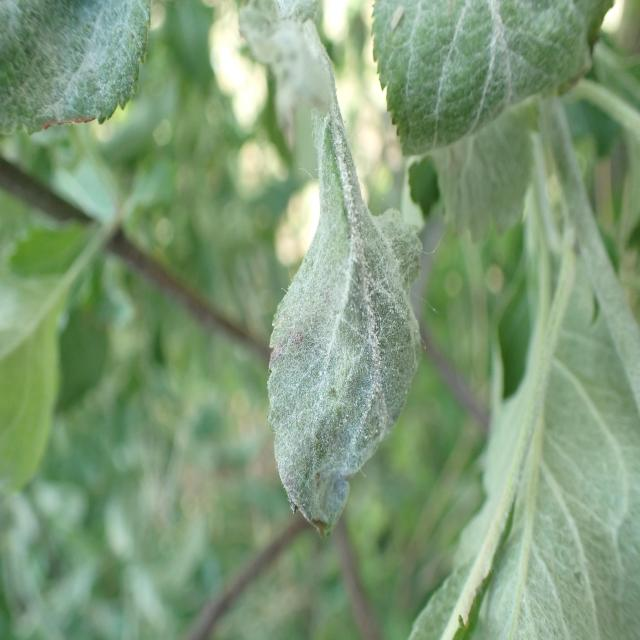Powdery_mildew: (428, 169, 640, 634), (262, 68, 438, 540), (320, 0, 610, 151), (0, 0, 152, 148)
